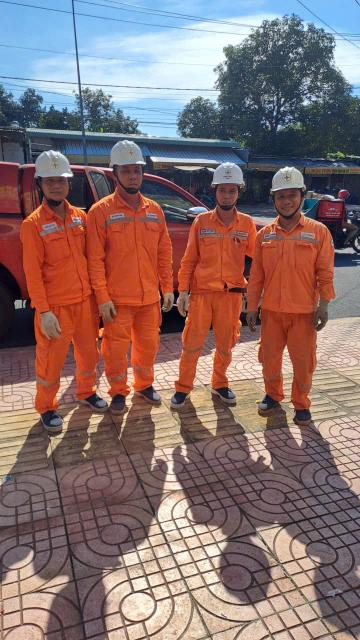gloves: (33, 303, 67, 349), (308, 294, 337, 336), (93, 293, 118, 326), (154, 288, 175, 322), (178, 289, 197, 323), (246, 306, 267, 332)
helmet: (25, 146, 88, 184), (263, 160, 320, 202), (203, 155, 257, 192), (100, 136, 154, 172)
shoes: (26, 396, 72, 438), (74, 389, 111, 429), (107, 387, 140, 431), (133, 375, 168, 415), (210, 372, 242, 411), (292, 397, 323, 436), (171, 381, 197, 414), (257, 386, 284, 417)
